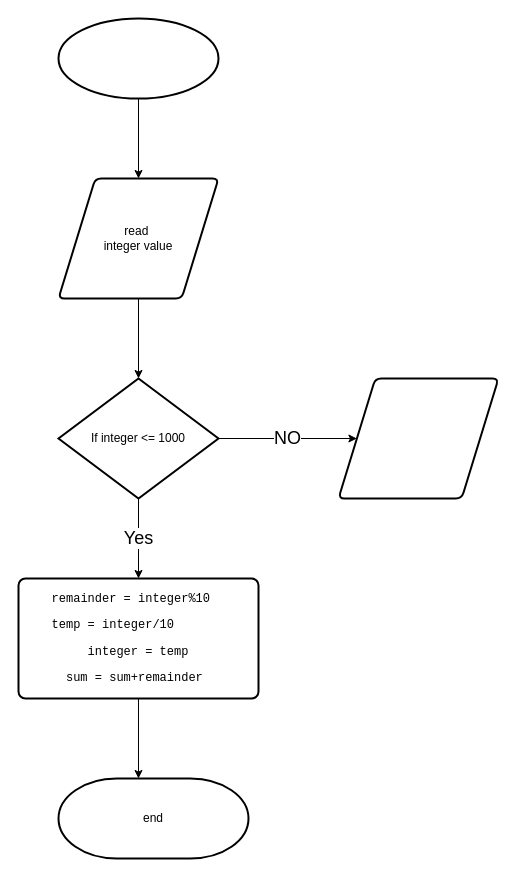
Some shapes in this 516 by 876 pixel diagram are drawn without their labels. Each missing label, with the centre of its shape:
"out of range input value" belongs at point (418, 438).
"start" belongs at point (138, 58).
